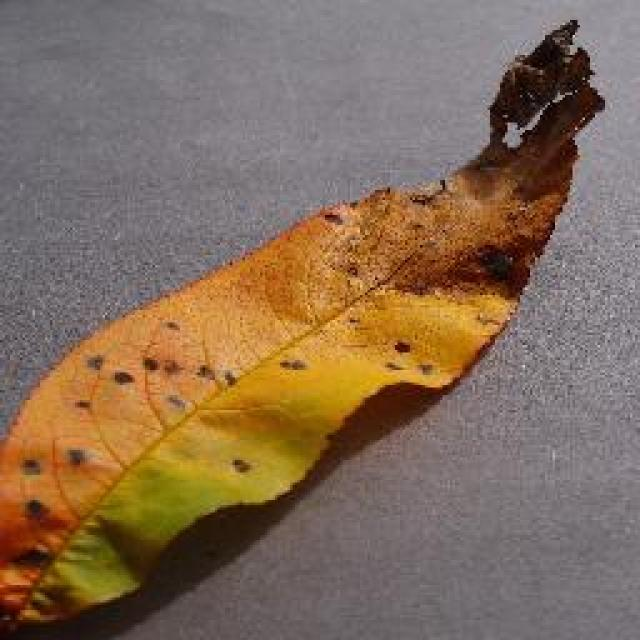Peach_Bacterial_Spot: (105, 237, 507, 475)
